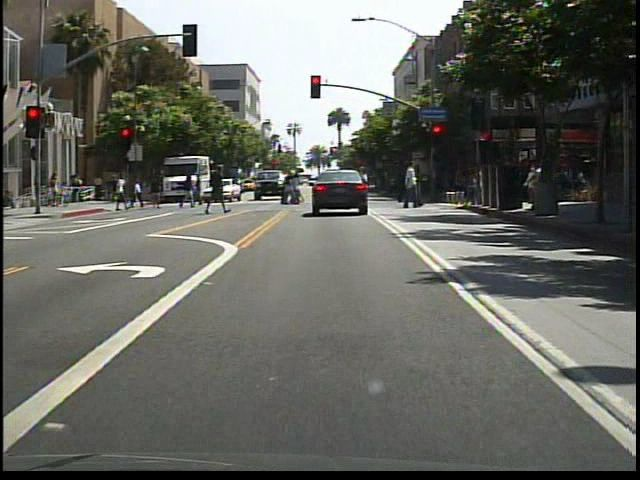person: (205, 163, 230, 218), (396, 160, 422, 210), (318, 169, 339, 214), (179, 172, 199, 213), (114, 173, 132, 216)
